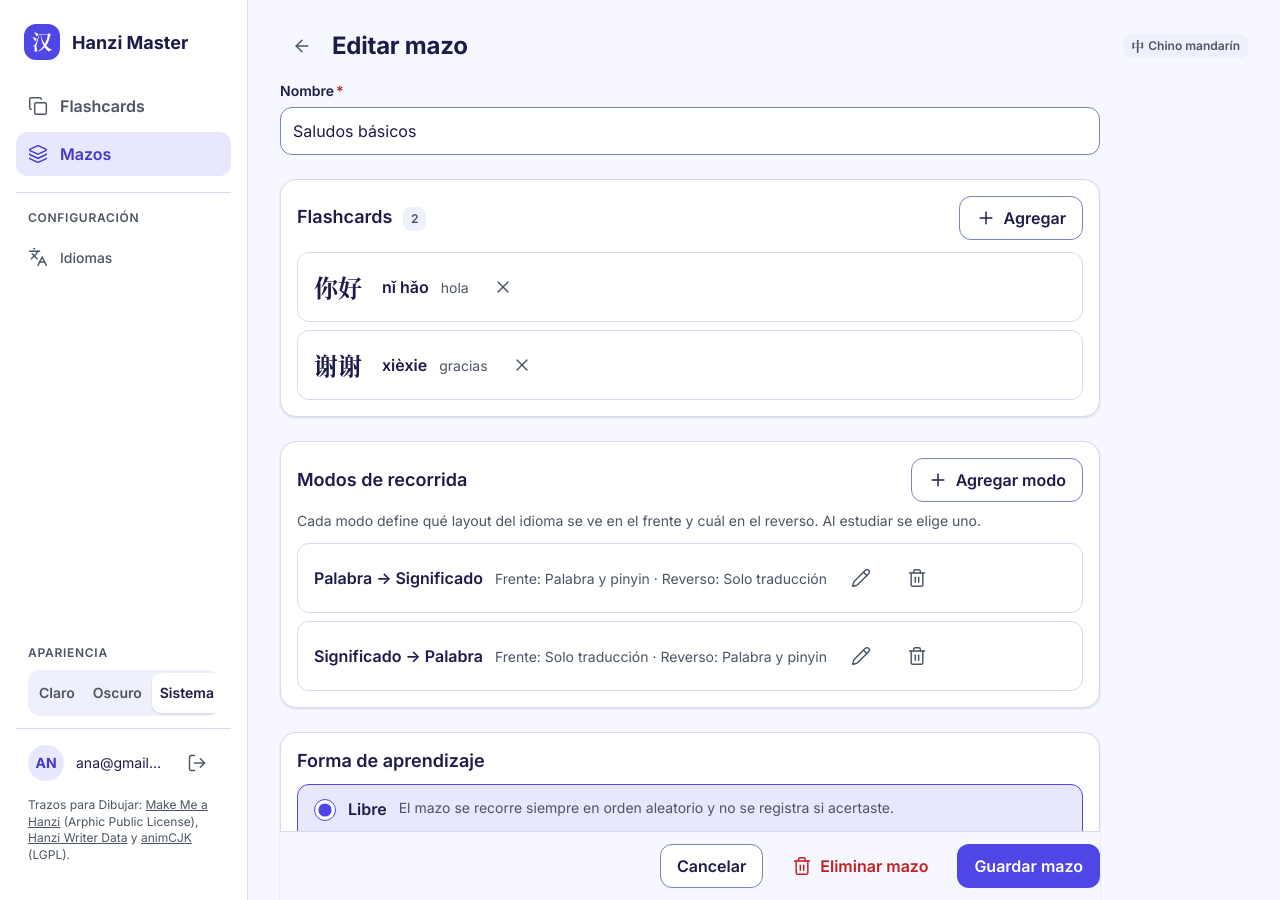
Scenario: M02 · Crear mazo › M02-2 se pueden quitar flashcards ya incluidas y las incluidas llegan marcadas
The image size is (1280, 900).
Expected: the field labelled "Nombre*" is shown, x1=280 y1=107 x2=1100 y2=155
What coordinates should you click on to do the following:
click the button named "Quitar 你好 del mazo"
I would click on:
 (503, 287)
Its box is x1=481 y1=265 x2=525 y2=309.
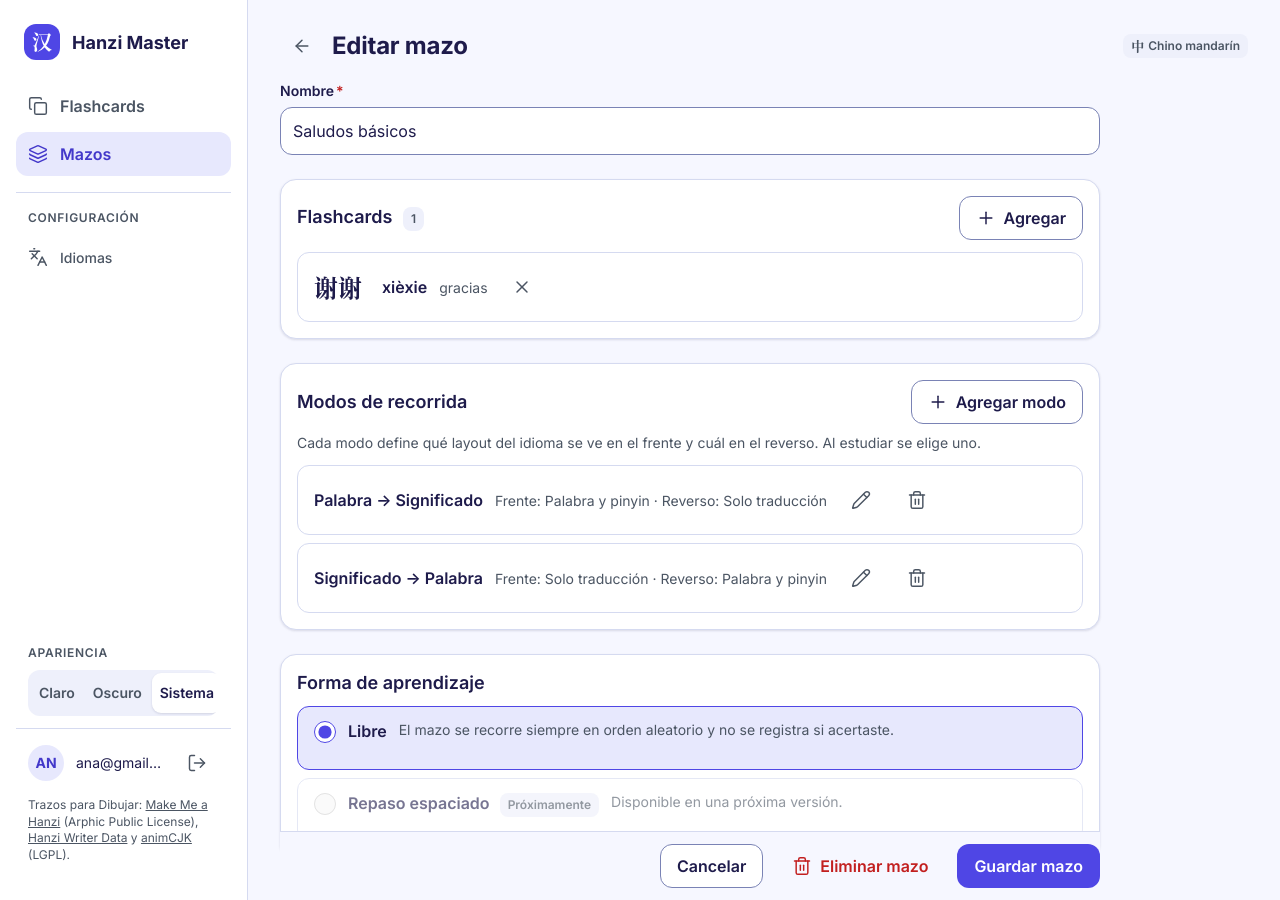
What coordinates should you click on to do the following:
click the button "Agregar"
I would click on:
 (1021, 218)
Its box is x1=959 y1=196 x2=1083 y2=240.
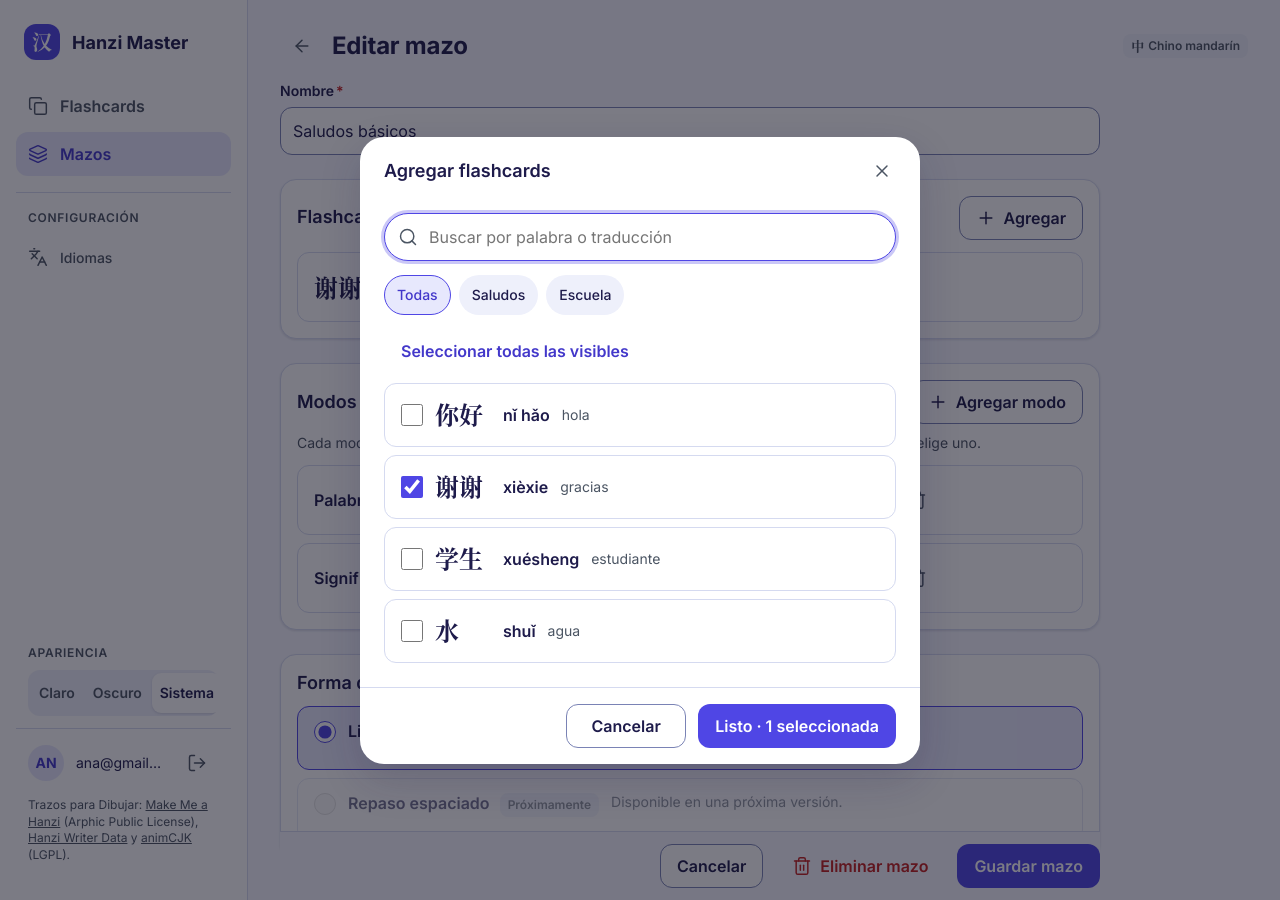
Now the checkbox labelled "谢谢" is checked, box x1=401 y1=476 x2=423 y2=498
Now the checkbox labelled "你好" is not checked, box x1=401 y1=404 x2=423 y2=426
